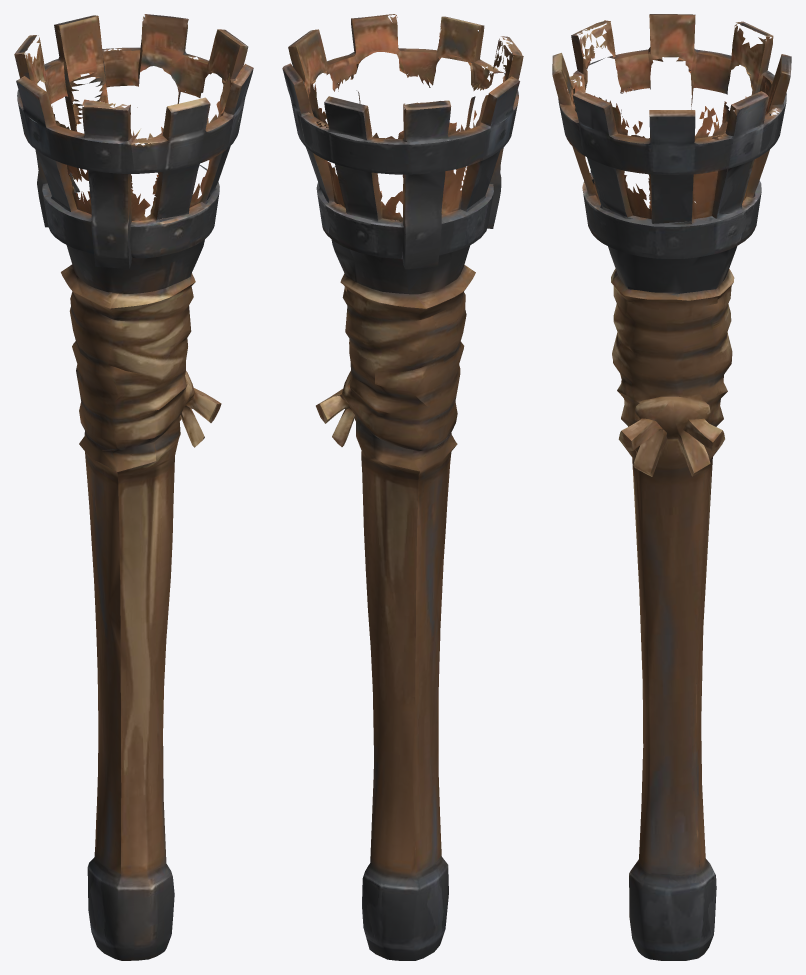
File: TorchBlazing.glb
3 renders of one model, left to right at view 1: azimuth 30°, elevation 25°; view 2: azimuth 150°, elevation 25°; view 3: azimuth 270°, elevation 25°, orthographic.
Visible parts, largest first — view 1: TorchBlazing; view 2: TorchBlazing; view 3: TorchBlazing.
Part boxes in pixels (x1,y1,x2,y2): TorchBlazing: (14, 14, 253, 960); TorchBlazing: (282, 14, 523, 960); TorchBlazing: (552, 14, 791, 960).
Bounding box in the file's own units: 0.1835 × 0.744 × 0.1815.
1 material, 1 textured.
